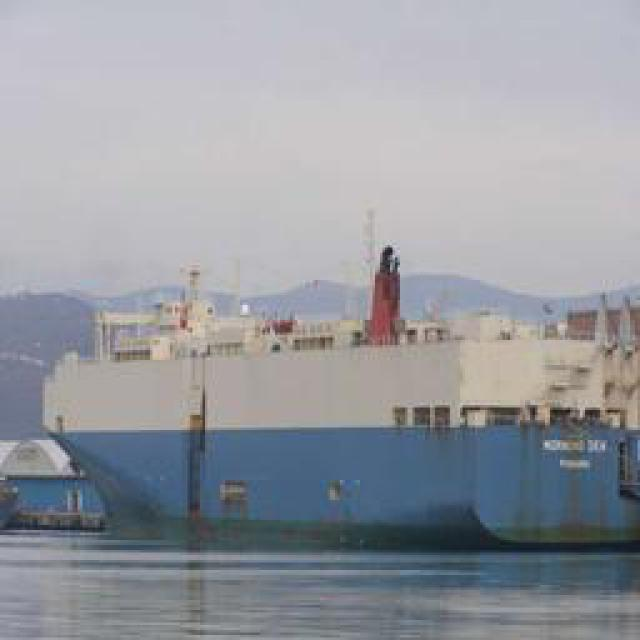Ship: (18, 258, 640, 542)
